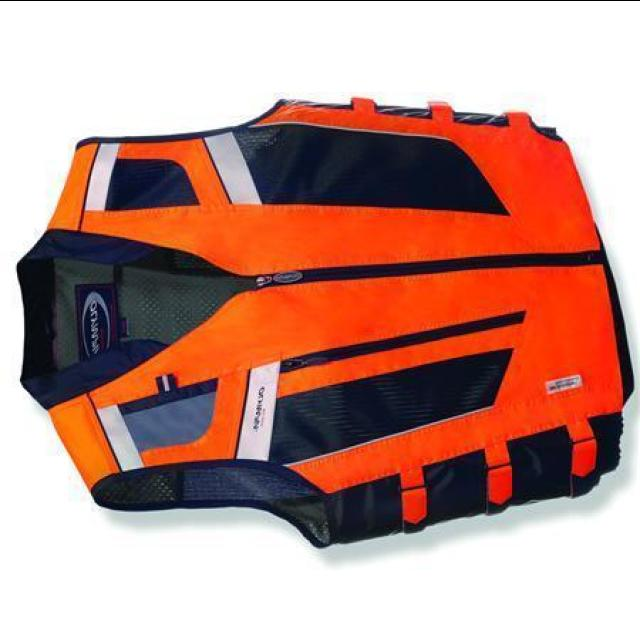jacket: (9, 87, 636, 545)
